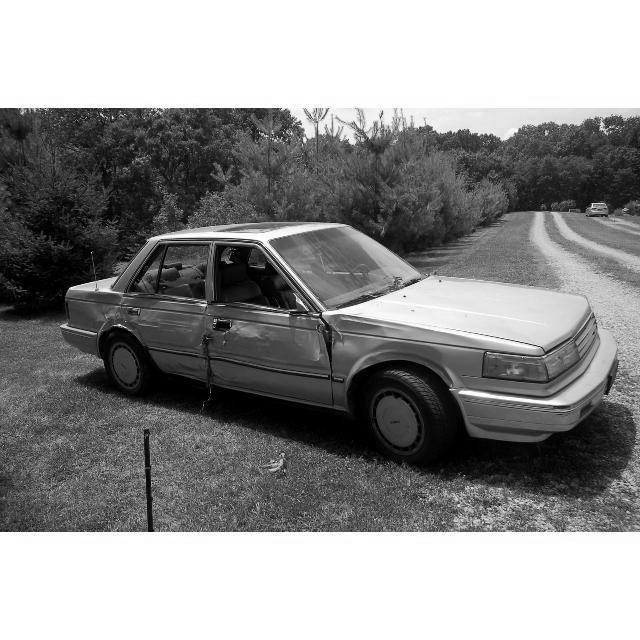doorouter-dent: (217, 262, 320, 384)
